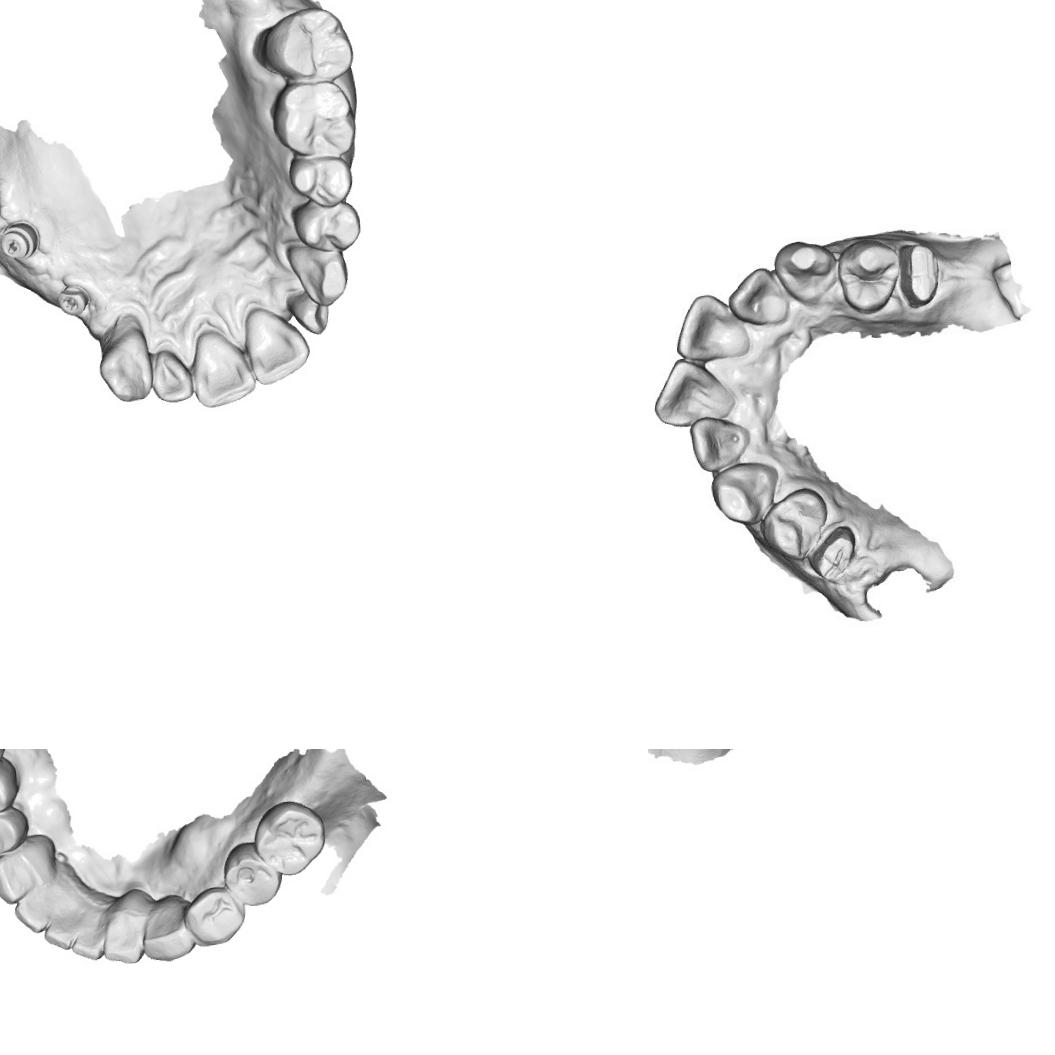canine: (95, 314, 154, 404), (708, 458, 779, 530), (771, 235, 838, 311), (284, 241, 354, 309), (138, 892, 196, 963), (0, 843, 47, 905)
crown: (890, 235, 947, 313), (804, 524, 861, 585)
implant_minus: (0, 220, 40, 261)
implant_plus: (53, 282, 91, 318)
incisor: (648, 356, 734, 429), (242, 303, 314, 386), (188, 326, 258, 410), (674, 288, 749, 366), (725, 262, 790, 334), (686, 414, 752, 474), (148, 346, 193, 404), (11, 884, 57, 935), (287, 289, 330, 336), (101, 922, 147, 965), (69, 916, 106, 961), (42, 910, 78, 950)
molar: (250, 3, 356, 86), (269, 77, 357, 158), (250, 798, 328, 878), (832, 237, 900, 315)
premolar: (754, 484, 832, 564), (220, 839, 283, 907), (290, 196, 362, 255), (182, 884, 247, 947), (286, 153, 354, 209), (0, 805, 30, 856), (0, 755, 20, 817)
